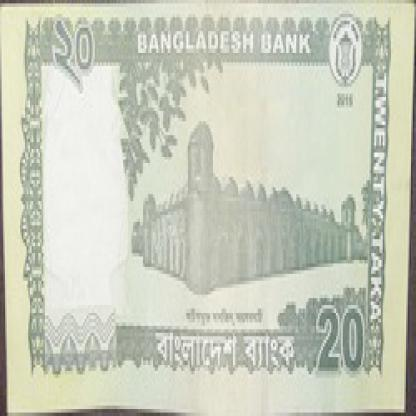Twenty: (48, 17, 105, 100), (312, 302, 370, 381)
